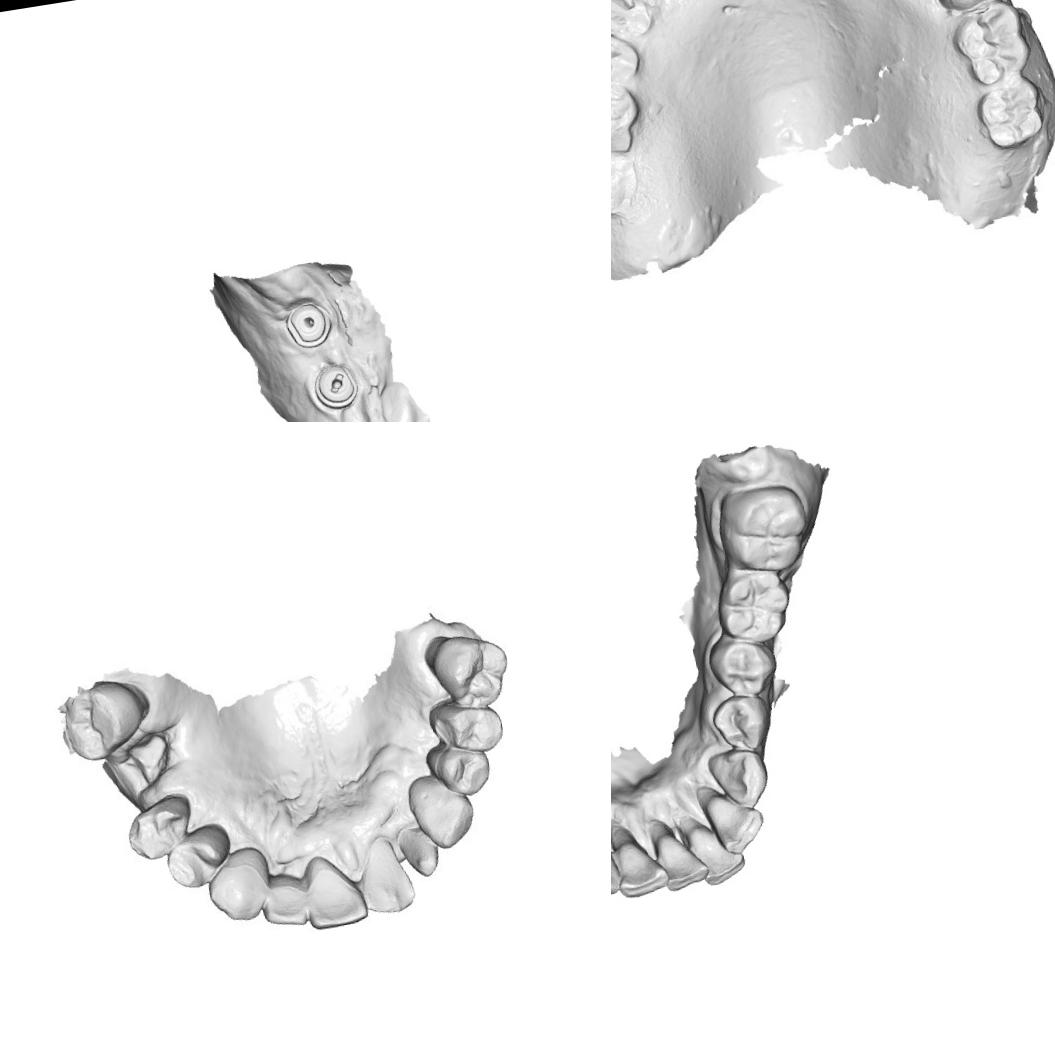canine: (406, 768, 480, 852), (200, 846, 276, 925), (702, 741, 772, 812)
implant: (282, 298, 336, 350)
implant_minus: (310, 363, 362, 411)
incisor: (685, 812, 749, 889), (708, 782, 771, 859), (304, 858, 368, 930), (355, 842, 418, 914), (652, 820, 706, 895), (612, 834, 672, 900), (258, 870, 310, 928), (398, 829, 444, 880)
molar: (714, 480, 815, 578), (55, 674, 156, 768), (424, 622, 518, 716), (710, 562, 798, 650), (957, 4, 1031, 84), (976, 76, 1046, 150), (611, 147, 641, 224), (611, 76, 639, 154)
premolar: (159, 816, 241, 894), (114, 796, 196, 867), (706, 632, 780, 701), (428, 692, 504, 758), (707, 690, 775, 758), (429, 732, 494, 798), (611, 0, 658, 39), (611, 31, 636, 80)
